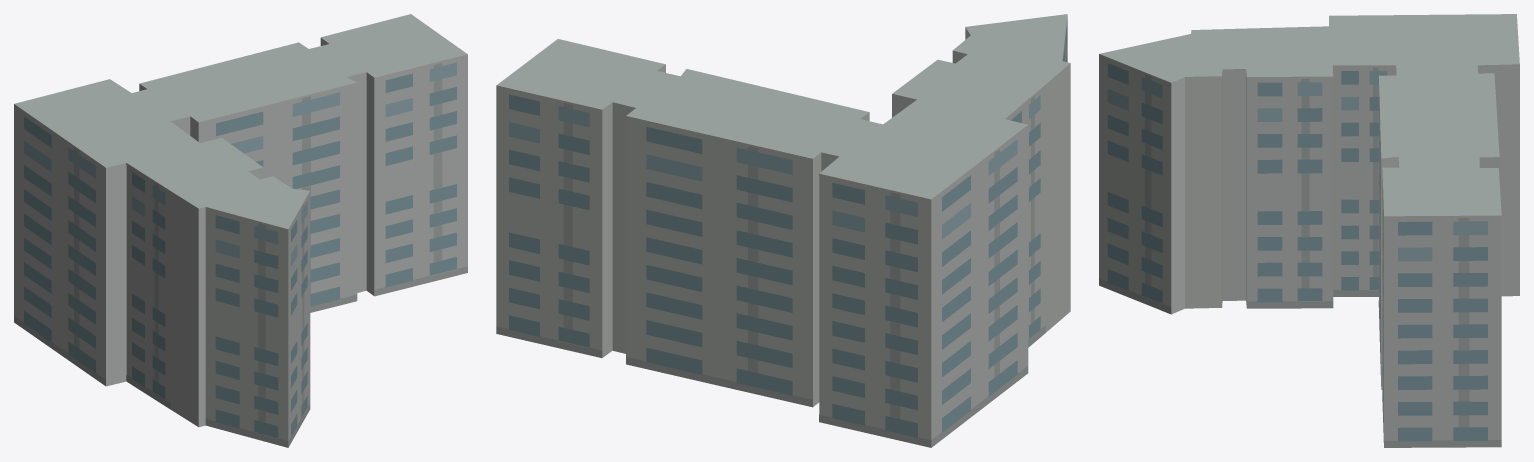
File: survey-upis-32466088.glb
The picture shows the model from 3 angles, left to right: view 1: azimuth 30°, elevation 25°; view 2: azimuth 150°, elevation 25°; view 3: azimuth 270°, elevation 25°; orthographic projection. The views are drawn at different scales.
Visible parts, largest first — view 1: survey-upis-32466088.tmp; view 2: survey-upis-32466088.tmp; view 3: survey-upis-32466088.tmp.
Part boxes in pixels (x1,y1,x2,y2): survey-upis-32466088.tmp: (14,14,467,447); survey-upis-32466088.tmp: (496,14,1070,447); survey-upis-32466088.tmp: (1099,14,1519,447).
Size of the model in its own units: 51.07 by 27.27 by 44.9.
